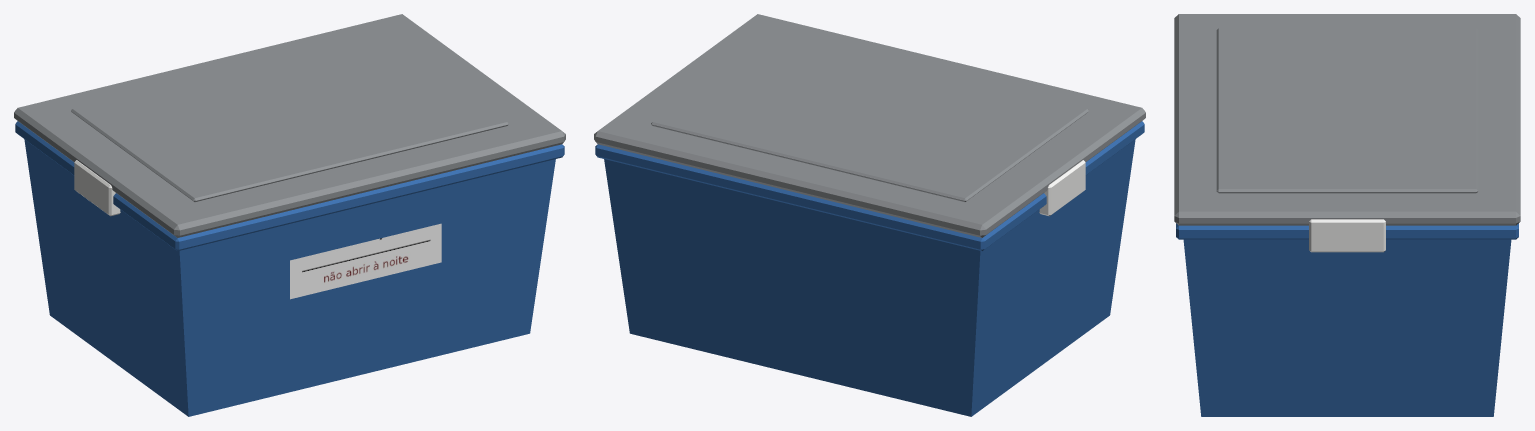
Rendered from caixa_organizadora.glb.
The picture shows the model from 3 angles, left to right: view 1: azimuth 30°, elevation 25°; view 2: azimuth 150°, elevation 25°; view 3: azimuth 270°, elevation 25°; orthographic projection. The views are drawn at different scales.
Visible parts, largest first — view 1: caixa_organizadora_plastico_azul_cx, caixa_organizadora_tampa_tampa_cinza, caixa_organizadora_fita_crepe_cx, caixa_organizadora_tampa_plastico_branco; view 2: caixa_organizadora_plastico_azul_cx, caixa_organizadora_tampa_tampa_cinza, caixa_organizadora_tampa_plastico_branco; view 3: caixa_organizadora_tampa_tampa_cinza, caixa_organizadora_plastico_azul_cx, caixa_organizadora_tampa_plastico_branco.
Boxes of the visible parts, bbox=[...] form: caixa_organizadora_plastico_azul_cx: bbox=[15, 121, 564, 416]; caixa_organizadora_tampa_tampa_cinza: bbox=[14, 14, 565, 237]; caixa_organizadora_fita_crepe_cx: bbox=[290, 223, 441, 299]; caixa_organizadora_tampa_plastico_branco: bbox=[74, 160, 120, 216]; caixa_organizadora_plastico_azul_cx: bbox=[595, 121, 1144, 416]; caixa_organizadora_tampa_tampa_cinza: bbox=[594, 14, 1145, 237]; caixa_organizadora_tampa_plastico_branco: bbox=[1039, 160, 1085, 216]; caixa_organizadora_tampa_tampa_cinza: bbox=[1174, 14, 1520, 225]; caixa_organizadora_plastico_azul_cx: bbox=[1176, 223, 1518, 416]; caixa_organizadora_tampa_plastico_branco: bbox=[1309, 219, 1385, 252].
Size of the model in its own units: 0.628 by 0.316 by 0.45.
Materials: 4 (1 with a texture image).
